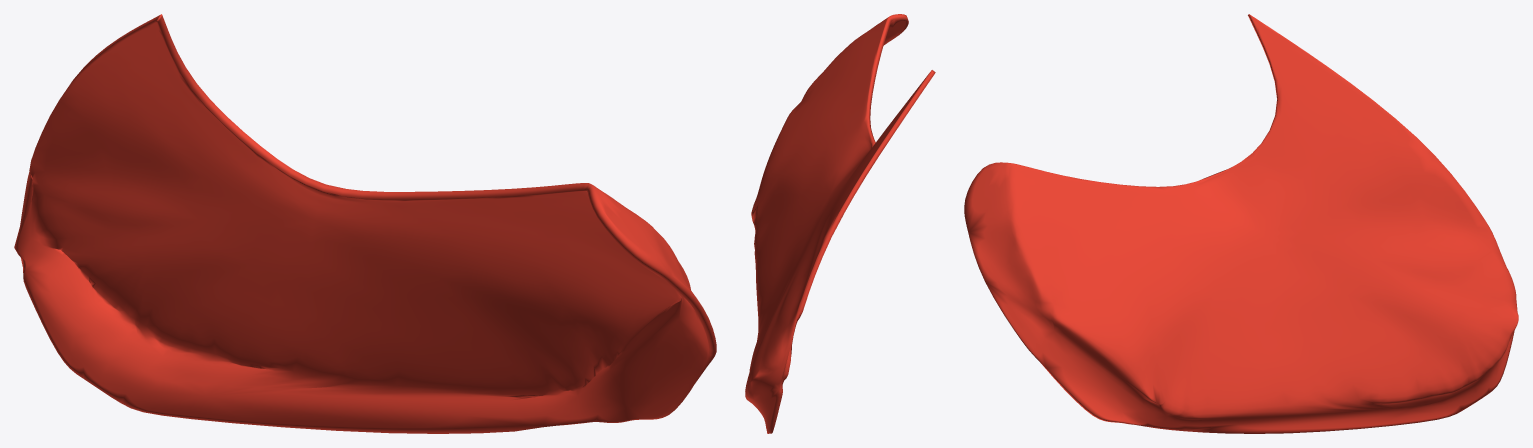
Rendered from Obturator_externus_obturator_membrane_right.glb.
3 renders of one model, left to right at view 1: azimuth 30°, elevation 25°; view 2: azimuth 150°, elevation 25°; view 3: azimuth 270°, elevation 25°, orthographic. The views are drawn at different scales.
Visible parts, largest first — view 1: Obturator_externus_on_obturator_membrane.r_Generated_Mesh_Fr; view 2: Obturator_externus_on_obturator_membrane.r_Generated_Mesh_Fr; view 3: Obturator_externus_on_obturator_membrane.r_Generated_Mesh_Fr.
Part boxes in pixels (x1,y1,x2,y2): Obturator_externus_on_obturator_membrane.r_Generated_Mesh_Fr: (14,14,716,433); Obturator_externus_on_obturator_membrane.r_Generated_Mesh_Fr: (745,14,935,433); Obturator_externus_on_obturator_membrane.r_Generated_Mesh_Fr: (964,14,1518,433).
Bounding box in the file's own units: 0.0283 × 0.0363 × 0.0507.
